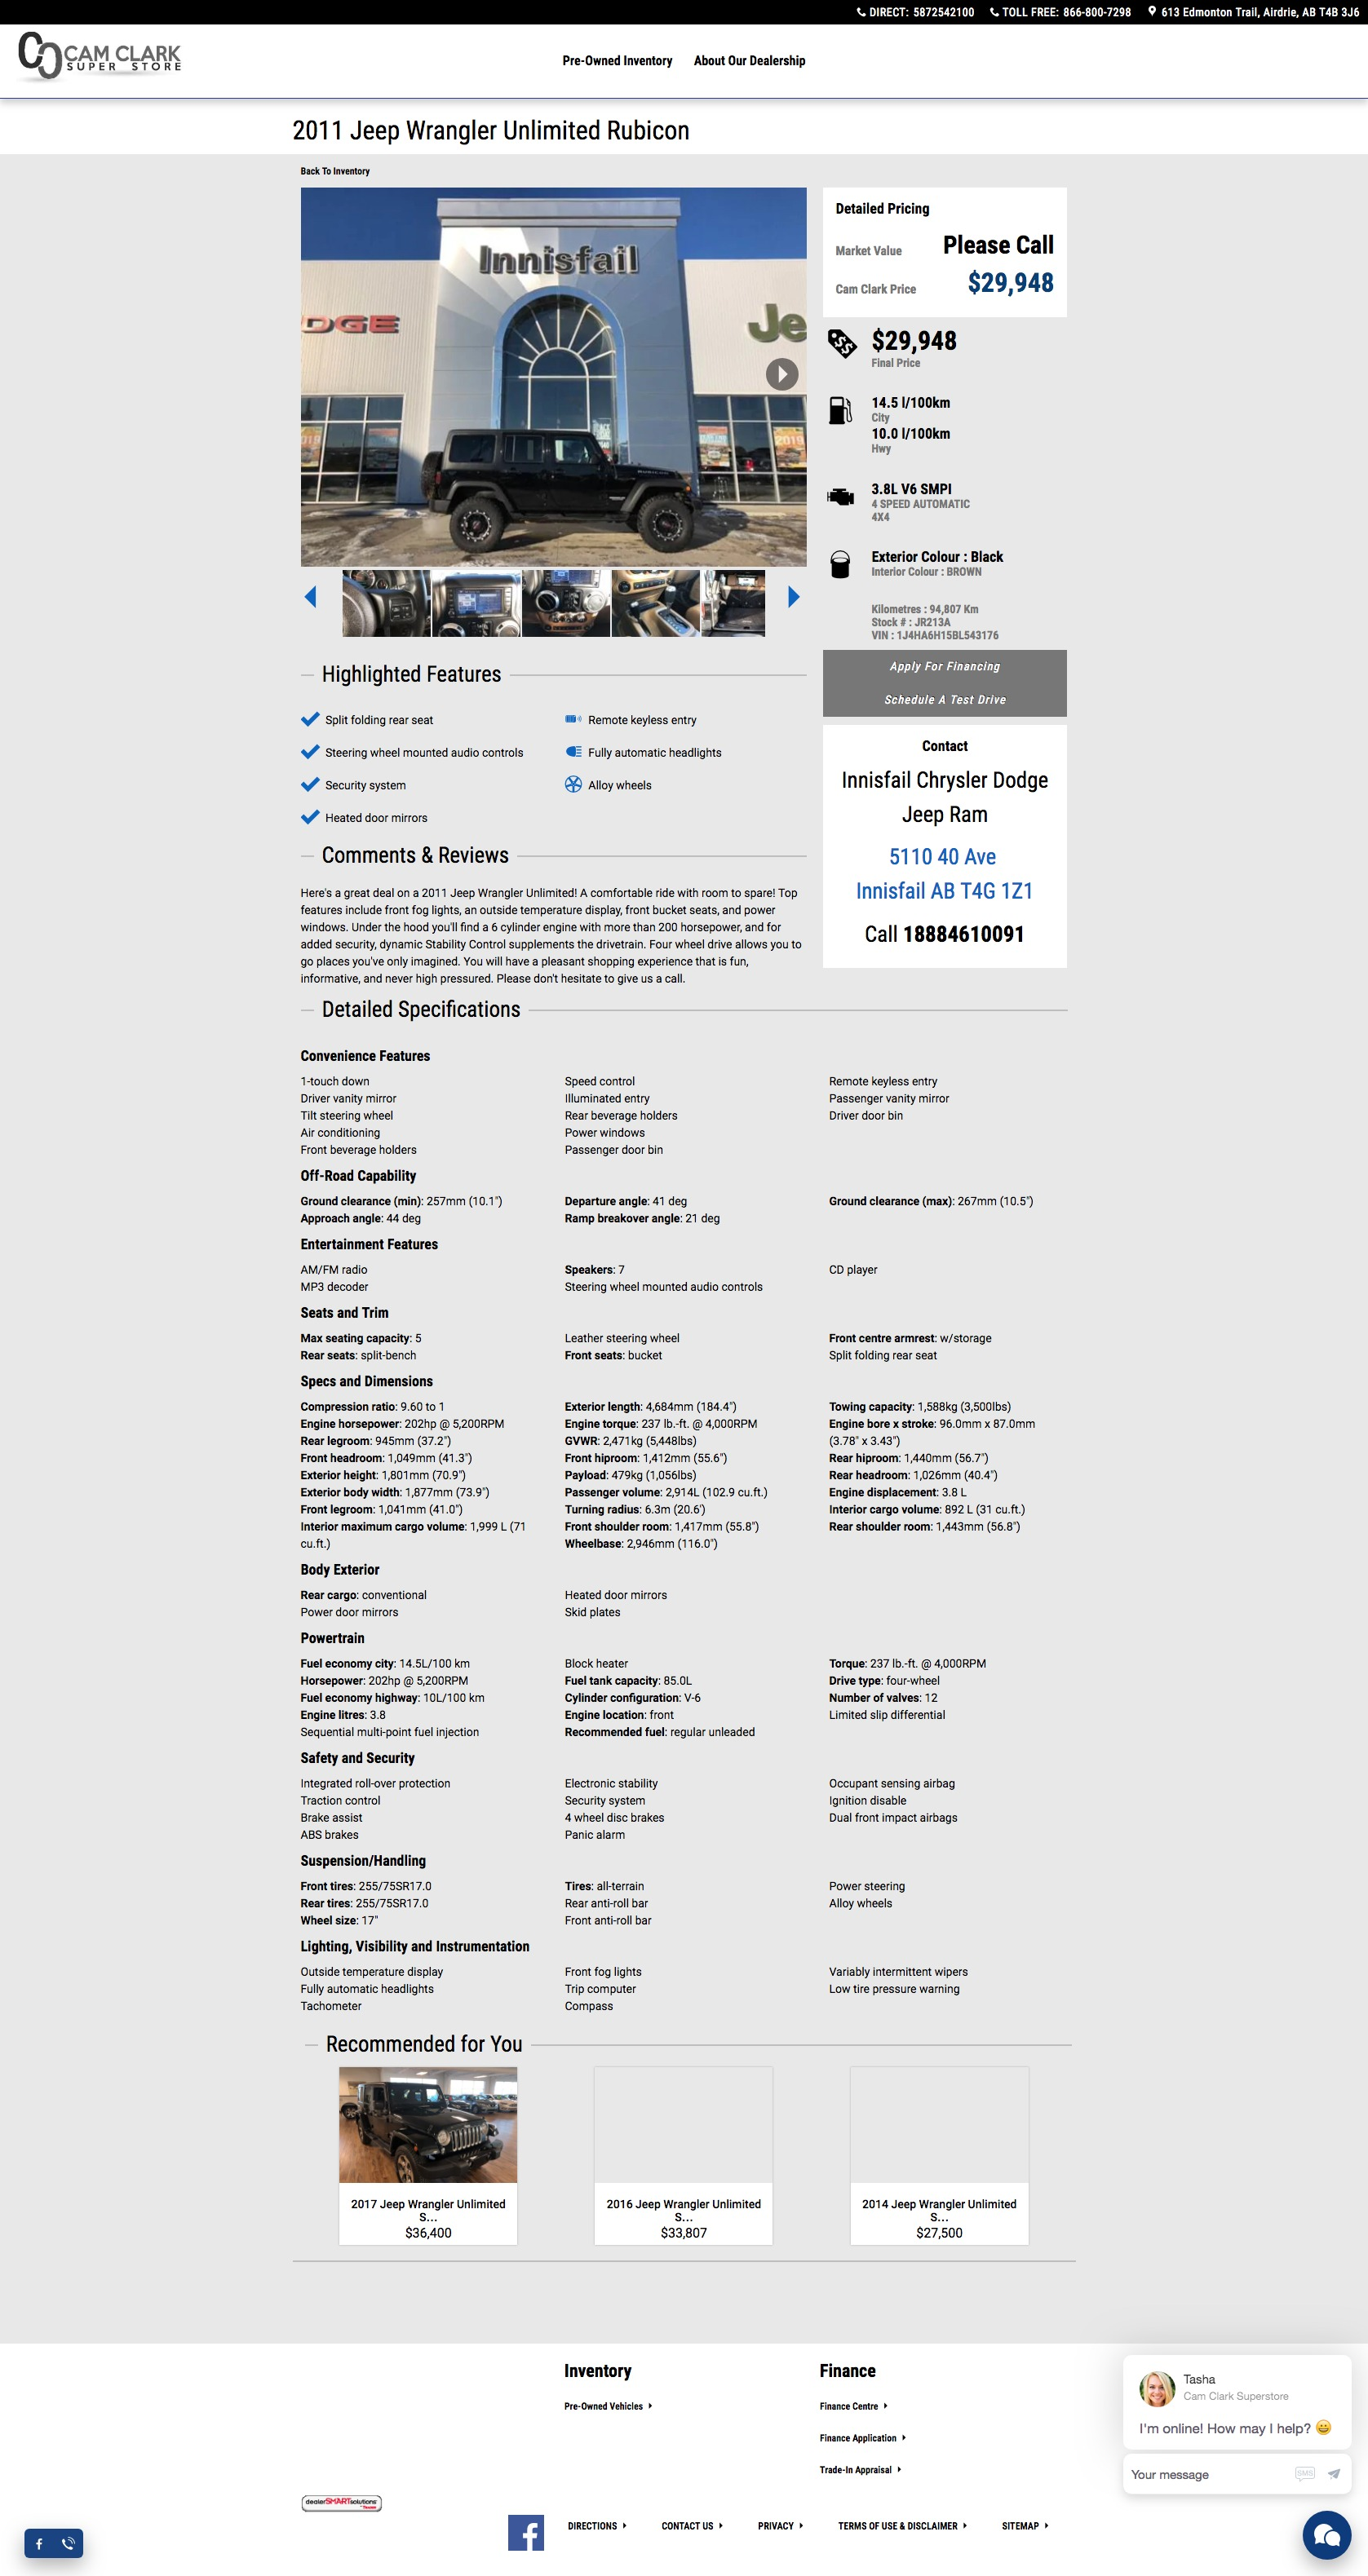car: (787, 586, 801, 610)
